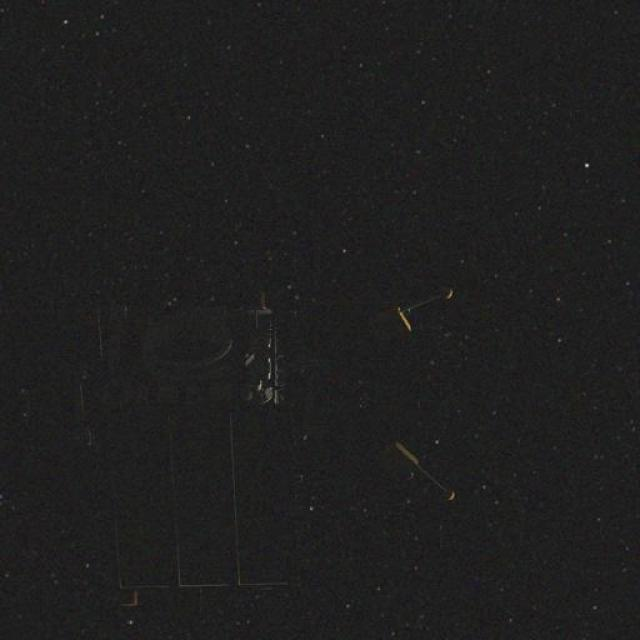proba_2: (119, 258, 486, 562)
